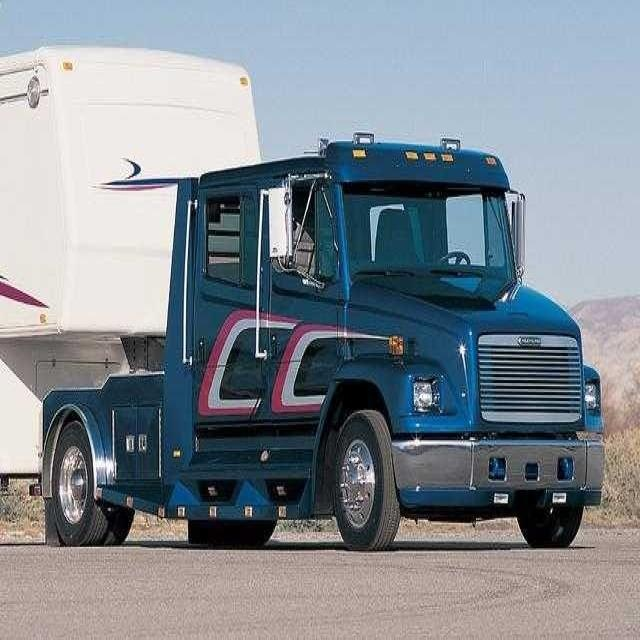Truck: (0, 38, 609, 555)
